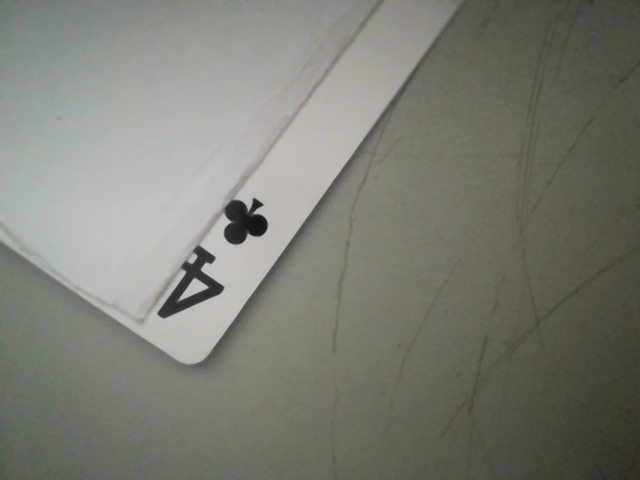mh 4: (145, 188, 291, 336)
